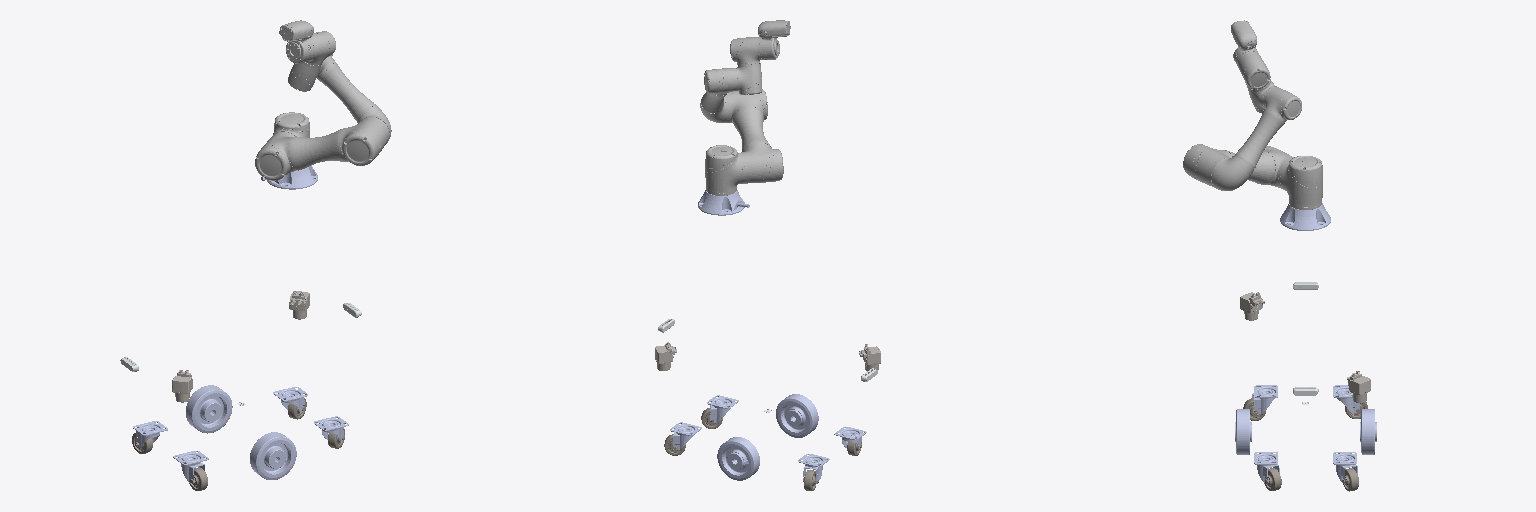
--- Render facts (derived) ---
Views: 3 orthographic renders of the robot side by side, from view 1: azimuth 30°, elevation 25°; view 2: azimuth 150°, elevation 25°; view 3: azimuth 270°, elevation 25°.
Robot: amr_mtt — 23 links, 22 joints (12 continuous, 10 fixed); root link base_link; default pose: all joints at 0.
Visible links, largest first — view 1: Link_3, Link_2, Link_6, R_Wheel_Link, L_Wheel_Link, Link_1, Link_5, TM-Cobot_Base_Link, R_B_CasterBraket_Link, R_B_Lidar_Link; view 2: Link_2, Link_6, Link_1, Link_3, R_Wheel_Link, L_Wheel_Link, TM-Cobot_Base_Link, Link_4, Link_5; view 3: Link_3, Link_1, Link_6, Link_2, TM-Cobot_Base_Link, Link_4, R_Wheel_Link, L_Wheel_Link, R_B_CasterBraket_Link, L_F_Lidar_Link.
Boxes of the visible links, box(x1,y1,x2,y2) form: Link_3: box(317, 61, 391, 165); Link_2: box(255, 128, 348, 180); Link_6: box(279, 20, 335, 64); R_Wheel_Link: box(250, 432, 296, 479); L_Wheel_Link: box(186, 385, 232, 433); Link_1: box(273, 112, 309, 137); Link_5: box(288, 62, 321, 91); TM-Cobot_Base_Link: box(261, 165, 317, 189); R_B_CasterBraket_Link: box(173, 451, 208, 483); R_B_Lidar_Link: box(172, 370, 192, 402); Link_2: box(733, 107, 783, 183); Link_6: box(730, 20, 790, 63); Link_1: box(705, 145, 741, 195); Link_3: box(700, 89, 767, 122); R_Wheel_Link: box(776, 394, 818, 437); L_Wheel_Link: box(717, 437, 759, 480); TM-Cobot_Base_Link: box(698, 190, 749, 215); Link_4: box(704, 68, 738, 95); Link_5: box(736, 62, 761, 94); Link_3: box(1183, 109, 1284, 190); Link_1: box(1280, 156, 1322, 209); Link_6: box(1231, 20, 1270, 88); Link_2: box(1225, 146, 1293, 189); TM-Cobot_Base_Link: box(1280, 203, 1330, 230); Link_4: box(1263, 87, 1301, 121); R_Wheel_Link: box(1235, 409, 1251, 454); L_Wheel_Link: box(1360, 409, 1376, 454); R_B_CasterBraket_Link: box(1252, 385, 1277, 414); L_F_Lidar_Link: box(1347, 371, 1370, 402).
Bounding box of the posed robot: 0.898 × 0.6751 × 1.68 m (x, y, z).
Meshes: 23 distinct files referenced, 22 mesh visuals loaded (22 binary STL); not drawn: 1 (reference not matched to a file when rendering).

The robot description file, URDF, robot "amr_mtt":
<?xml version="1.0" encoding="utf-8"?>
<!-- This URDF was automatically created by SolidWorks to URDF Exporter! Originally created by Stephen Brawner ([email redacted]) 
     Commit Version: 1.6.0-4-g7f85cfe  Build Version: 1.6.7995.38578
     For more information, please see http://wiki.ros.org/sw_urdf_exporter -->
<robot name="amr_mtt">

    <link name="base_link">
        <inertial>
            <origin xyz="-0.0555565412295525 0.00165956495364204 0.101551668712326" rpy="0 0 0" />
            <mass value="78.8693941491302" />
            <inertia ixx="1.44737979136883" ixy="0.00178871174819288" ixz="0.00621681229079885" iyy="1.32835196259761" iyz="-0.00203443957449835" izz="2.10399743524909" />
        </inertial>
        <visual>
            <origin xyz="0 0 0" rpy="0 0 0" />
            <geometry>
                <mesh filename="package://amr_mtt/meshes/amr_mtt_model/base_link.STL" />
            </geometry>
            <material name="">
                <color rgba="0.752941176470588 0.752941176470588 0.752941176470588 1" />
            </material>
        </visual>
        <collision>
            <origin xyz="0 0 0" rpy="0 0 0" />
            <geometry>
                <mesh filename="package://amr_mtt/meshes/amr_mtt_model/base_link.STL" />
            </geometry>
        </collision>
    </link>

    <link name="L_Wheel_Link">
        <inertial>
            <origin xyz="-5.7041E-05 -6.8176E-05 -8.6849E-07" rpy="0 0 0" />
            <mass value="0.74595" />
            <inertia ixx="0.0014396" ixy="5.309E-07" ixz="-4.4513E-08" iyy="0.0025686" iyz="1.3108E-08" izz="0.0014416" />
        </inertial>
        <visual>
            <origin xyz="0 0 0" rpy="0 0 0" />
            <geometry>
                <mesh filename="package://amr_mtt/meshes/amr_mtt_model/L_Wheel_Link.STL" />
            </geometry>
            <material name="">
                <color rgba="0.79216 0.81961 0.93333 1" />
            </material>
        </visual>
        <collision>
            <origin xyz="0 0 0" rpy="0 0 0" />
            <geometry>
                <mesh filename="package://amr_mtt/meshes/amr_mtt_model/L_Wheel_Link.STL" />
            </geometry>
        </collision>
    </link>
    <joint name="L_Wheel_point" type="continuous">
        <origin xyz="0 0.218 -0.097" rpy="0 0 0" />
        <parent link="base_link" />
        <child link="L_Wheel_Link" />
        <axis xyz="0 -1 0" />
        <dynamics damping="0.1" friction="0.1" />
    </joint>
    <link name="R_Wheel_Link">
        <inertial>
            <origin xyz="3.4631E-05 -6.8176E-05 -4.5333E-05" rpy="0 0 0" />
            <mass value="0.74595" />
            <inertia ixx="0.0014409" ixy="-3.2636E-07" ixz="9.6606E-07" iyy="0.0025686" iyz="4.1894E-07" izz="0.0014404" />
        </inertial>
        <visual>
            <origin xyz="0 0 0" rpy="0 0 0" />
            <geometry>
                <mesh filename="package://amr_mtt/meshes/amr_mtt_model/R_Wheel_Link.STL" />
            </geometry>
            <material name="">
                <color rgba="0.79216 0.81961 0.93333 1" />
            </material>
        </visual>
        <collision>
            <origin xyz="0 0 0" rpy="0 0 0" />
            <geometry>
                <mesh filename="package://amr_mtt/meshes/amr_mtt_model/R_Wheel_Link.STL" />
            </geometry>
        </collision>
    </link>
    <joint name="L_Wheel_ponit" type="continuous">
        <origin xyz="0 -0.218 -0.097" rpy="0 0 0" />
        <parent link="base_link" />
        <child link="R_Wheel_Link" />
        <axis xyz="0 -1 0" />
        <dynamics damping="0.1" friction="0.1" />
    </joint>
    <link name="L_F_Lidar_Link">
        <inertial>
            <origin xyz="0.015755 2.5445E-08 -0.025668" rpy="0 0 0" />
            <mass value="1.1838" />
            <inertia ixx="0.0035294" ixy="4.6297E-09" ixz="9.1216E-06" iyy="0.0019712" iyz="-3.244E-09" izz="0.0052637" />
        </inertial>
        <visual>
            <origin xyz="0 0 0" rpy="0 0 0" />
            <geometry>
                <mesh filename="package://amr_mtt/meshes/amr_mtt_model/L_F_Lidar_Link.STL" />
            </geometry>
            <material name="">
                <color rgba="0.77255 0.75294 0.73333 1" />
            </material>
        </visual>
        <collision>
            <origin xyz="0 0 0" rpy="0 0 0" />
            <geometry>
                <mesh filename="package://amr_mtt/meshes/amr_mtt_model/L_F_Lidar_Link.STL" />
            </geometry>
        </collision>
    </link>
    <joint name="L_F_Lidar_Center_ponit" type="fixed">
        <origin xyz="0.33905 0.18905 0.18259" rpy="3.1416 0 0.7854" />
        <parent link="base_link" />
        <child link="L_F_Lidar_Link" />
        <axis xyz="0 0 0" />
    </joint>
    
    <link name="R_B_Lidar_Link">
        <inertial>
            <origin xyz="-2.5445E-08 0.015755 -0.025668" rpy="0 0 0" />
            <mass value="1.1838" />
            <inertia ixx="0.0019712" ixy="-4.6297E-09" ixz="3.244E-09" iyy="0.0035294" iyz="9.1216E-06" izz="0.0052637" />
        </inertial>
        <visual>
            <origin xyz="0 0 0" rpy="0 0 0" />
            <geometry>
                <mesh filename="package://amr_mtt/meshes/amr_mtt_model/R_B_Lidar_Link.STL" />
            </geometry>
            <material name="">
                <color rgba="0.77255 0.75294 0.73333 1" />
            </material>
        </visual>
        <collision>
            <origin xyz="0 0 0" rpy="0 0 0" />
            <geometry>
                <mesh filename="package://amr_mtt/meshes/amr_mtt_model/R_B_Lidar_Link.STL" />
            </geometry>
        </collision>
    </link>

    <joint name="R_B_Lidar_Center_ponit" type="fixed">
        <origin xyz="-0.33905 -0.18905 0.18259" rpy="-3.1416 0 -0.7854" />
        <parent link="base_link" />
        <child link="R_B_Lidar_Link" />
        <axis xyz="0 0 0" />
    </joint>
    
    <link name="F_Cam_Link">
        <inertial>
            <origin xyz="0.011444 -0.001705 0.00013611" rpy="0 0 0" />
            <mass value="0.10791" />
            <inertia ixx="7.1255E-05" ixy="1.7847E-08" ixz="4.9298E-08" iyy="7.71E-06" iyz="-2.4825E-10" izz="7.0257E-05" />
        </inertial>
        <visual>
            <origin xyz="0 0 0" rpy="0 0 0" />
            <geometry>
                <mesh filename="package://amr_mtt/meshes/amr_mtt_model/F_Cam_Link.STL" />
            </geometry>
            <material name="">
                <color rgba="0.89804 0.91765 0.92941 1" />
            </material>
        </visual>
        <collision>
            <origin xyz="0 0 0" rpy="0 0 0" />
            <geometry>
                <mesh filename="package://amr_mtt/meshes/amr_mtt_model/F_Cam_Link.STL" />
            </geometry>
        </collision>
    </link>
    <joint name="F_Cam_Ponit" type="fixed">
        <origin xyz="0.448 0.0017162 0.261" rpy="3.1416 0 -3.1416" />
        <parent link="base_link" />
        <child link="F_Cam_Link" />
        <axis xyz="0 0 0" />
    </joint>
    <link name="B_Cam_Link">
        <inertial>
            <origin xyz="-0.011444 0.001705 0.00013611" rpy="0 0 0" />
            <mass value="0.10791" />
            <inertia ixx="7.1255E-05" ixy="1.7848E-08" ixz="-4.9298E-08" iyy="7.71E-06" iyz="2.4846E-10" izz="7.0257E-05" />
        </inertial>
        <visual>
            <origin xyz="0 0 0" rpy="0 0 0" />
            <geometry>
                <mesh filename="package://amr_mtt/meshes/amr_mtt_model/B_Cam_Link.STL" />
            </geometry>
            <material name="">
                <color rgba="0.89804 0.91765 0.92941 1" />
            </material>
        </visual>
        <collision>
            <origin xyz="0 0 0" rpy="0 0 0" />
            <geometry>
                <mesh filename="package://amr_mtt/meshes/amr_mtt_model/B_Cam_Link.STL" />
            </geometry>
        </collision>
    </link>
    <joint name="B_Cam_Ponit" type="fixed">
        <origin xyz="-0.448 -0.0017162 0.261" rpy="3.1416 0 3.1416" />
        <parent link="base_link" />
        <child link="B_Cam_Link" />
        <axis xyz="0 0 0" />
    </joint>
    <link name="L_F_CasterBraket_Link">
        <inertial>
            <origin xyz="0.003428 0.0017288 -0.012032" rpy="0 0 0" />
            <mass value="0.074802" />
            <inertia ixx="4.2967E-05" ixy="3.6999E-07" ixz="4.7776E-06" iyy="4.6114E-05" iyz="2.354E-06" izz="6.9035E-05" />
        </inertial>
        <visual>
            <origin xyz="0 0 0" rpy="0 0 0" />
            <geometry>
                <mesh filename="package://amr_mtt/meshes/amr_mtt_model/L_F_CasterBraket_Link.STL" />
            </geometry>
            <material name="">
                <color rgba="0.79216 0.81961 0.93333 1" />
            </material>
        </visual>
        <collision>
            <origin xyz="0 0 0" rpy="0 0 0" />
            <geometry>
                <mesh filename="package://amr_mtt/meshes/amr_mtt_model/L_F_CasterBraket_Link.STL" />
            </geometry>
        </collision>
    </link>
    <joint name="L_F_Caster_Braket_Center_Ponit" type="fixed">
        <origin xyz="0.274 0.1375 -0.0725" rpy="0 0 0" />
        <parent link="base_link" />
        <child link="L_F_CasterBraket_Link" />
        <axis xyz="0 0 0" />
    </joint>
    <link name="L_F_Caster_Wheel_Link">
        <inertial>
            <origin xyz="-4.73634249666954E-05 9.43606574451694E-05 -2.24161932142319E-06" rpy="0 0 0" />
            <mass value="0.926803088083352" />
            <inertia ixx="0.00048842288032356" ixy="-0.000117257523102007" ixz="1.07485473553116E-08" iyy="0.000657974890471322" iyz="1.07607509775958E-08" izz="0.000428467302250286" />
        </inertial>
        <visual>
            <origin xyz="0 0 0" rpy="0 0 0" />
            <geometry>
                <mesh filename="package://amr_mtt/meshes/amr_mtt_model/L_F_Caster_Wheel_Link.STL" />
            </geometry>
            <material name="">
                <color rgba="0.647058823529412 0.619607843137255 0.588235294117647 1" />
            </material>
        </visual>
        <collision>
            <origin xyz="0 0 0" rpy="0 0 0" />
            <geometry>
                <mesh filename="package://amr_mtt/meshes/amr_mtt_model/L_F_Caster_Wheel_Link.STL" />
            </geometry>
        </collision>
    </link>
    <joint name="L_F_Caster_Wheel_Center_Ponit" type="continuous">
        <origin xyz="0.0356191889929753 0.0182009168163758 -0.0645" rpy="0 0 0" />
        <parent link="L_F_CasterBraket_Link" />
        <child link="L_F_Caster_Wheel_Link" />
        <axis xyz="0.45502293907625 -0.890479716172363 0" />
    </joint>
    <link name="R_F_CasterBraket_Link">
        <inertial>
            <origin xyz="-0.0027631 -0.0029354 -0.0090318" rpy="0 0 0" />
            <mass value="0.074802" />
            <inertia ixx="4.2886E-05" ixy="4.1457E-07" ixz="4.5197E-06" iyy="4.6185E-05" iyz="2.8243E-06" izz="6.9031E-05" />
        </inertial>
        <visual>
            <origin xyz="0 0 0" rpy="0 0 0" />
            <geometry>
                <mesh filename="package://amr_mtt/meshes/amr_mtt_model/R_F_CasterBraket_Link.STL" />
            </geometry>
            <material name="">
                <color rgba="0.79216 0.81961 0.93333 1" />
            </material>
        </visual>
        <collision>
            <origin xyz="0 0 0" rpy="0 0 0" />
            <geometry>
                <mesh filename="package://amr_mtt/meshes/amr_mtt_model/R_F_CasterBraket_Link.STL" />
            </geometry>
        </collision>
    </link>
    <joint name="R_F_CasterBraket_Link" type="fixed">
        <origin xyz="0.28 -0.1325 -0.0755" rpy="0 0 0" />
        <parent link="base_link" />
        <child link="R_F_CasterBraket_Link" />
        <axis xyz="0 0 0" />
    </joint>
    <link name="R_F_Caster_Wheel_Link">
        <inertial>
            <origin xyz="-5.66086759621331E-05 8.91217086949198E-05 -2.24161560775059E-06" rpy="0 0 0" />
            <mass value="0.92680309051368" />
            <inertia ixx="0.000513590278731602" ixy="-0.000131845029135019" ixz="9.61241453906099E-09" iyy="0.000632807492551655" iyz="1.17867700790781E-08" izz="0.000428467302585151" />
        </inertial>
        <visual>
            <origin xyz="0 0 0" rpy="0 0 0" />
            <geometry>
                <mesh filename="package://amr_mtt/meshes/amr_mtt_model/R_F_Caster_Wheel_Link.STL" />
            </geometry>
            <material name="">
                <color rgba="0.647058823529412 0.619607843137255 0.588235294117647 1" />
            </material>
        </visual>
        <collision>
            <origin xyz="0 0 0" rpy="0 0 0" />
            <geometry>
                <mesh filename="package://amr_mtt/meshes/amr_mtt_model/R_F_Caster_Wheel_Link.STL" />
            </geometry>
        </collision>
    </link>
    <joint name="R_F_Caster_Wheel_Center_Ponit" type="continuous">
        <origin xyz="0.0276092110470175 0.0166891892507862 -0.061500000000001" rpy="0 0 0" />
        <parent link="R_F_CasterBraket_Link" />
        <child link="R_F_Caster_Wheel_Link" />
        <axis xyz="0.542229748892177 -0.840230265710732 0" />
    </joint>
    <link name="L_B_CasterBraket_Link">
        <inertial>
            <origin xyz="-0.00083039 0.0037484 -0.012032" rpy="0 0 0" />
            <mass value="0.074802" />
            <inertia ixx="4.2334E-05" ixy="-2.0904E-07" ixz="-1.1037E-06" iyy="4.6746E-05" iyz="5.2105E-06" izz="6.9035E-05" />
        </inertial>
        <visual>
            <origin xyz="0 0 0" rpy="0 0 0" />
            <geometry>
                <mesh filename="package://amr_mtt/meshes/amr_mtt_model/L_B_CasterBraket_Link.STL" />
            </geometry>
            <material name="">
                <color rgba="0.79216 0.81961 0.93333 1" />
            </material>
        </visual>
        <collision>
            <origin xyz="0 0 0" rpy="0 0 0" />
            <geometry>
                <mesh filename="package://amr_mtt/meshes/amr_mtt_model/L_B_CasterBraket_Link.STL" />
            </geometry>
        </collision>
    </link>
    <joint name="L_B_Caster_Braket_Center_Ponit" type="fixed">
        <origin xyz="-0.276 0.1375 -0.0725" rpy="0 0 0" />
        <parent link="base_link" />
        <child link="L_B_CasterBraket_Link" />
        <axis xyz="0 0 0" />
    </joint>
    <link name="L_B_Caster_Wheel_Link">
        <inertial>
            <origin xyz="-0.00010312426234943 -2.26414634290073E-05 -2.24162550284748E-06" rpy="0 0 0" />
            <mass value="0.926803079748811" />
            <inertia ixx="0.000703697449353942" ixy="6.25013797411359E-05" ixz="-7.77897516245519E-09" iyy="0.000442700319824298" iyz="1.30693817880093E-08" izz="0.000428467301163054" />
        </inertial>
        <visual>
            <origin xyz="0 0 0" rpy="0 0 0" />
            <geometry>
                <mesh filename="package://amr_mtt/meshes/amr_mtt_model/L_B_Caster_Wheel_Link.STL" />
            </geometry>
            <material name="">
                <color rgba="0.647058823529412 0.619607843137255 0.588235294117647 1" />
            </material>
        </visual>
        <collision>
            <origin xyz="0 0 0" rpy="0 0 0" />
            <geometry>
                <mesh filename="package://amr_mtt/meshes/amr_mtt_model/L_B_Caster_Wheel_Link.STL" />
            </geometry>
        </collision>
    </link>
    <joint name="L_B_Caster_Wheel_Center_Ponit" type="continuous">
        <origin xyz="-0.00885892182777459 0.0390066597407205 -0.0645" rpy="0 0 0" />
        <parent link="L_B_CasterBraket_Link" />
        <child link="L_B_Caster_Wheel_Link" />
        <axis xyz="0.975166489072291 0.221473065157869 0" />
    </joint>
    <link name="R_B_CasterBraket_Link">
        <inertial>
            <origin xyz="-0.0055172 -0.0088083 -0.0090318" rpy="0 0 0" />
            <mass value="0.074803" />
            <inertia ixx="4.2303E-05" ixy="-1.3421E-07" ixz="6.2079E-07" iyy="4.6778E-05" iyz="-5.2898E-06" izz="6.9035E-05" />
        </inertial>
        <visual>
            <origin xyz="0 0 0" rpy="0 0 0" />
            <geometry>
                <mesh filename="package://amr_mtt/meshes/amr_mtt_model/R_B_CasterBraket_Link.STL" />
            </geometry>
            <material name="">
                <color rgba="0.79216 0.81961 0.93333 1" />
            </material>
        </visual>
        <collision>
            <origin xyz="0 0 0" rpy="0 0 0" />
            <geometry>
                <mesh filename="package://amr_mtt/meshes/amr_mtt_model/R_B_CasterBraket_Link.STL" />
            </geometry>
        </collision>
    </link>
    <joint name="R_B_Caster_Braket_Center_Ponit" type="fixed">
        <origin xyz="-0.27 -0.1325 -0.0755" rpy="0 0 0" />
        <parent link="base_link" />
        <child link="R_B_CasterBraket_Link" />
        <axis xyz="0 0 0" />
    </joint>
    <link name="R_B_Caster_Wheel_Link">
        <inertial>
            <origin xyz="0.000104767049402377 1.30814336782858E-05 -2.24162656019267E-06" rpy="0 0 0" />
            <mass value="0.926803076144841" />
            <inertia ixx="0.000712923063206127" ixy="3.75959005651103E-05" ixz="6.54664547183672E-09" iyy="0.000433474705299254" iyz="-1.37281183558464E-08" izz="0.0004284673007199" />
        </inertial>
        <visual>
            <origin xyz="0 0 0" rpy="0 0 0" />
            <geometry>
                <mesh filename="package://amr_mtt/meshes/amr_mtt_model/R_B_Caster_Wheel_Link.STL" />
            </geometry>
            <material name="">
                <color rgba="0.647058823529412 0.619607843137255 0.588235294117647 1" />
            </material>
        </visual>
        <collision>
            <origin xyz="0 0 0" rpy="0 0 0" />
            <geometry>
                <mesh filename="package://amr_mtt/meshes/amr_mtt_model/R_B_Caster_Wheel_Link.STL" />
            </geometry>
        </collision>
    </link>
    <joint name="R_B_Caster_Wheel_Center_Ponit" type="continuous">
        <origin xyz="-0.000758400516130298 -0.0446550833439237 -0.0614999999999982" rpy="0 0 0" />
        <parent link="R_B_CasterBraket_Link" />
        <child link="R_B_Caster_Wheel_Link" />
        <axis xyz="-0.991377080716502 -0.131040008508952 0" />
    </joint>
    <link name="TM-Cobot_Base_Link">
        <inertial>
            <origin xyz="-0.00021756 1.7879E-06 0.028486" rpy="0 0 0" />
            <mass value="1.0628" />
            <inertia ixx="0.0018509" ixy="-1.6429E-06" ixz="5.8128E-06" iyy="0.0018182" iyz="1.3077E-08" izz="0.0029043" />
        </inertial>
        <visual>
            <origin xyz="0 0 0" rpy="0 0 0" />
            <geometry>
                <mesh filename="package://amr_mtt/meshes/amr_mtt_model/TM-Cobot_Base_Link.STL" />
            </geometry>
            <material name="">
                <color rgba="0.79216 0.81961 0.93333 1" />
            </material>
        </visual>
        <collision>
            <origin xyz="0 0 0" rpy="0 0 0" />
            <geometry>
                <mesh filename="package://amr_mtt/meshes/amr_mtt_model/TM-Cobot_Base_Link.STL" />
            </geometry>
        </collision>
    </link>
    <joint name="TM-Cobot_Base_Joint" type="fixed">
        <origin xyz="0.2 0 0.8095" rpy="0 0 0" />
        <parent link="base_link" />
        <child link="TM-Cobot_Base_Link" />
        <axis xyz="0 0 0" />
    </joint>
    <link name="Link_1">
        <inertial>
            <origin xyz="-0.00391531722607025 -0.0033688936152312 0.0798207161054414" rpy="0 0 0" />
            <mass value="1.94965698217263" />
            <inertia ixx="0.00338467351081412" ixy="-3.34324310507675E-05" ixz="0.000371614592148249" iyy="0.00339475475446705" iyz="0.000319804867812514" izz="0.00374801181276869" />
        </inertial>
        <visual>
            <origin xyz="0 0 0" rpy="0 0 0" />
            <geometry>
                <mesh filename="package://amr_mtt/meshes/amr_mtt_model/Link_1.STL" />
            </geometry>
            <material name="">
                <color rgba="0.752941176470588 0.752941176470588 0.752941176470588 1" />
            </material>
        </visual>
        <collision>
            <origin xyz="0 0 0" rpy="0 0 0" />
            <geometry>
                <mesh filename="package://amr_mtt/meshes/amr_mtt_model/Link_1.STL" />
            </geometry>
        </collision>
    </link>
    <joint name="Joint_1" type="continuous">
        <origin xyz="0 0 0.0660000000000001" rpy="0 0 0" />
        <parent link="TM-Cobot_Base_Link" />
        <child link="Link_1" />
        <axis xyz="0 0 -1" />
    </joint>
    <link name="Link_2">
        <inertial>
            <origin xyz="-0.0134944136795603 -0.107829561667099 0.0239453268690271" rpy="0 0 0" />
            <mass value="3.49989531101932" />
            <inertia ixx="0.00924853487707105" ixy="0.00243664628178682" ixz="-0.000900328055475429" iyy="0.00757190375852954" iyz="0.00128062746401855" izz="0.0101088316105376" />
        </inertial>
        <visual>
            <origin xyz="0 0 0" rpy="0 0 0" />
            <geometry>
                <mesh filename="package://amr_mtt/meshes/amr_mtt_model/Link_2.STL" />
            </geometry>
            <material name="">
                <color rgba="0.752941176470588 0.752941176470588 0.752941176470588 1" />
            </material>
        </visual>
        <collision>
            <origin xyz="0 0 0" rpy="0 0 0" />
            <geometry>
                <mesh filename="package://amr_mtt/meshes/amr_mtt_model/Link_2.STL" />
            </geometry>
        </collision>
    </link>
    <joint name="Joint_2" type="continuous">
        <origin xyz="-0.0506321612922385 -0.0435732055611794 0.0814999999999997" rpy="0 0 0" />
        <parent link="Link_1" />
        <child link="Link_2" />
        <axis xyz="0.757966486410744 0.652293496424847 0" />
    </joint>
    <link name="Link_3">
        <inertial>
            <origin xyz="-0.0405351846159711 0.0103801688104188 0.0258075057228893" rpy="0 0 0" />
            <mass value="3.54946926663233" />
            <inertia ixx="0.0101107741335135" ixy="0.0035792301728309" ixz="-0.0006609519716987" iyy="0.0100306244156645" iyz="0.000151718499543795" izz="0.00652479703956447" />
        </inertial>
        <visual>
            <origin xyz="0 0 0" rpy="0 0 0" />
            <geometry>
                <mesh filename="package://amr_mtt/meshes/amr_mtt_model/Link_3.STL" />
            </geometry>
            <material name="">
                <color rgba="0.752941176470588 0.752941176470588 0.752941176470588 1" />
            </material>
        </visual>
        <collision>
            <origin xyz="0 0 0" rpy="0 0 0" />
            <geometry>
                <mesh filename="package://amr_mtt/meshes/amr_mtt_model/Link_3.STL" />
            </geometry>
        </collision>
    </link>
    <joint name="Joint_3" type="continuous">
        <origin xyz="0.206712756073558 -0.240200886799263 0.104222610034891" rpy="0 0 0" />
        <parent link="Link_2" />
        <child link="Link_3" />
        <axis xyz="0.757594980390799 0.652722650138608 0.00172849145146258" />
    </joint>
    <link name="Link_4">
        <inertial>
            <origin xyz="0.0461001321833566 0.036026654473032 -0.00292641554341455" rpy="0 0 0" />
            <mass value="0.784289467673424" />
            <inertia ixx="0.000722675446500571" ixy="3.87279451486948E-05" ixz="6.34304486507315E-05" iyy="0.000875412240330379" iyz="4.62581466966762E-05" izz="0.000771594898278823" />
        </inertial>
        <visual>
            <origin xyz="0 0 0" rpy="0 0 0" />
            <geometry>
                <mesh filename="package://amr_mtt/meshes/amr_mtt_model/Link_4.STL" />
            </geometry>
            <material name="">
                <color rgba="0.752941176470588 0.752941176470588 0.752941176470588 1" />
            </material>
        </visual>
        <collision>
            <origin xyz="0 0 0" rpy="0 0 0" />
            <geometry>
                <mesh filename="package://amr_mtt/meshes/amr_mtt_model/Link_4.STL" />
            </geometry>
        </collision>
    </link>
    <joint name="Joint_4" type="continuous">
        <origin xyz="-0.154520094662668 0.166509363428353 0.219670278490666" rpy="0 0 0" />
        <parent link="Link_3" />
        <child link="Link_4" />
        <axis xyz="0.755745611856343 0.654864207794132 -0.00119979583546829" />
    </joint>
    <link name="Link_5">
        <inertial>
            <origin xyz="-0.0110024526007661 0.0188816073832932 -0.0543519349398283" rpy="0 0 0" />
            <mass value="0.784289592592099" />
            <inertia ixx="0.000814591458678085" ixy="-1.53732673336862E-05" ixz="9.00310636758488E-05" iyy="0.000735478257527559" iyz="5.63639577152586E-05" izz="0.000819598938913865" />
        </inertial>
        <visual>
            <origin xyz="0 0 0" rpy="0 0 0" />
            <geometry>
                <mesh filename="package://amr_mtt/meshes/amr_mtt_model/Link_5.STL" />
            </geometry>
            <material name="">
                <color rgba="0.752941176470588 0.752941176470588 0.752941176470588 1" />
            </material>
        </visual>
        <collision>
            <origin xyz="0 0 0" rpy="0 0 0" />
            <geometry>
                <mesh filename="package://amr_mtt/meshes/amr_mtt_model/Link_5.STL" />
            </geometry>
        </collision>
    </link>
    <joint name="Joint_5" type="continuous">
        <origin xyz="-0.0234350641519672 -0.0487485844996592 0.0544675453883603" rpy="0 0 0" />
        <parent link="Link_4" />
        <child link="Link_5" />
        <axis xyz="-0.241461406781918 0.276954407590449 -0.930049807887255" />
    </joint>
    <link name="Link_6">
        <inertial>
            <origin xyz="0.0147841980808791 0.0042480737331482 0.0151274279538292" rpy="0 0 0" />
            <mass value="1.4574234602454" />
            <inertia ixx="0.00180339669278899" ixy="2.63381410193493E-05" ixz="6.50896145233067E-06" iyy="0.00161263925764541" iyz="3.86425627687119E-05" izz="0.00113045411493904" />
        </inertial>
        <visual>
            <origin xyz="0 0 0" rpy="0 0 0" />
            <geometry>
                <mesh filename="package://amr_mtt/meshes/amr_mtt_model/Link_6.STL" />
            </geometry>
            <material name="">
                <color rgba="0.752941176470588 0.752941176470588 0.752941176470588 1" />
            </material>
        </visual>
        <collision>
            <origin xyz="0 0 0" rpy="0 0 0" />
            <geometry>
                <mesh filename="package://amr_mtt/meshes/amr_mtt_model/Link_6.STL" />
            </geometry>
        </collision>
    </link>
    <joint name="Joint_6" type="continuous">
        <origin xyz="-0.0431083229104648 -0.0311376554684481 0.0553575571257914" rpy="0 0 0" />
        <parent link="Link_5" />
        <child link="Link_6" />
        <axis xyz="-0.942033385140828 -0.296974715295184 0.15613814317923" />
    </joint>
    <link name="IMU_Link">
        <inertial>
            <origin xyz="0 0 0" rpy="0 0 0" />
            <mass value="0" />
            <inertia ixx="0" ixy="0" ixz="0" iyy="0" iyz="0" izz="0" />
        </inertial>
        <visual>
            <origin xyz="0 0 0" rpy="0 0 0" />
            <geometry>
                <mesh filename="package://amr_mtt/meshes/amr_mtt_model/IMU_Link.STL" />
            </geometry>
            <material name="">
                <color rgba="1 1 1 1" />
            </material>
        </visual>
        <collision>
            <origin xyz="0 0 0" rpy="0 0 0" />
            <geometry>
                <mesh filename="package://amr_mtt/meshes/amr_mtt_model/IMU_Link.STL" />
            </geometry>
        </collision>
    </link>
    <joint name="IMU_Joint" type="fixed">
        <origin xyz="0 0 0.0116500000000001" rpy="0 0 0" />
        <parent link="base_link" />
        <child link="IMU_Link" />
        <axis xyz="0 0 0" />
    </joint>
</robot>
